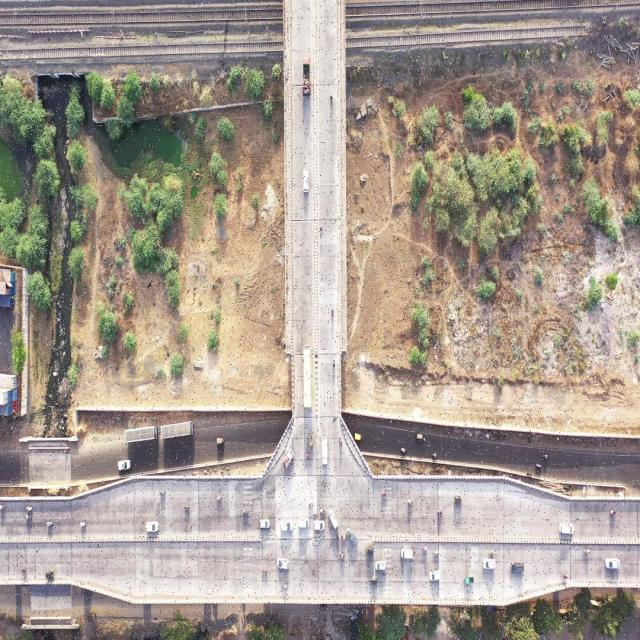3W: (453, 493, 464, 507), (86, 610, 97, 622), (414, 432, 426, 443), (44, 570, 56, 580), (368, 575, 379, 585), (354, 430, 363, 442), (365, 545, 374, 556), (216, 436, 226, 445), (308, 434, 314, 448)
Bus: (302, 344, 313, 409), (124, 425, 159, 444), (160, 420, 195, 439)
Cars: (344, 525, 360, 545), (320, 436, 330, 467), (603, 555, 621, 572), (558, 521, 575, 536), (508, 561, 525, 576), (328, 508, 339, 530), (276, 555, 290, 572), (302, 167, 310, 196), (116, 458, 132, 472), (145, 518, 159, 534), (399, 548, 415, 562), (481, 558, 497, 572), (280, 518, 294, 533), (312, 519, 326, 532), (375, 560, 388, 573), (298, 515, 310, 529), (428, 570, 441, 582), (258, 518, 270, 530)
LCV: (463, 574, 475, 587)
M2W: (582, 546, 592, 558), (407, 496, 416, 509), (431, 548, 442, 558), (182, 503, 192, 513), (608, 508, 618, 518), (215, 495, 226, 504), (329, 92, 335, 108), (241, 508, 251, 517), (305, 447, 311, 462), (380, 490, 389, 500), (431, 451, 440, 461), (400, 445, 409, 455), (488, 548, 497, 557), (25, 505, 35, 513), (560, 574, 570, 582), (338, 550, 345, 561), (436, 507, 443, 518), (79, 520, 88, 528), (318, 506, 326, 515), (338, 434, 343, 447), (331, 356, 336, 369), (330, 308, 335, 321), (542, 453, 550, 461), (319, 223, 323, 239), (0, 502, 7, 511), (261, 567, 268, 576), (526, 469, 532, 479), (25, 514, 33, 521), (421, 545, 429, 552), (536, 462, 542, 471), (335, 530, 340, 540), (46, 521, 54, 527), (159, 492, 167, 498), (341, 535, 346, 544), (20, 566, 27, 572), (312, 512, 318, 519), (308, 502, 314, 508)
MAV: (302, 55, 312, 100)
